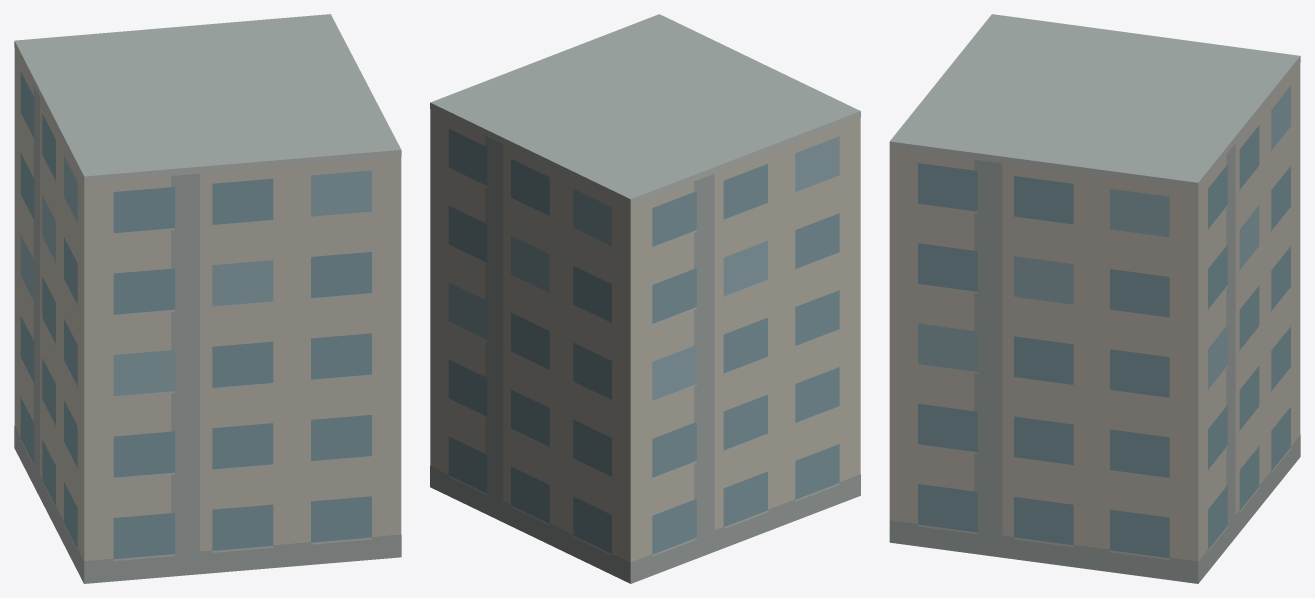
File: survey-upis-32978590.glb
3 renders of one model, left to right at view 1: azimuth 30°, elevation 25°; view 2: azimuth 150°, elevation 25°; view 3: azimuth 270°, elevation 25°, orthographic. The views are drawn at different scales.
Visible parts, largest first — view 1: survey-upis-32978590.tmp; view 2: survey-upis-32978590.tmp; view 3: survey-upis-32978590.tmp.
Boxes of the visible parts, x1,y1,x2,y2 form: survey-upis-32978590.tmp: (14, 14, 401, 583); survey-upis-32978590.tmp: (430, 14, 860, 583); survey-upis-32978590.tmp: (889, 14, 1300, 583).
Size of the model in its own units: 12.92 by 14.3 by 13.29.
